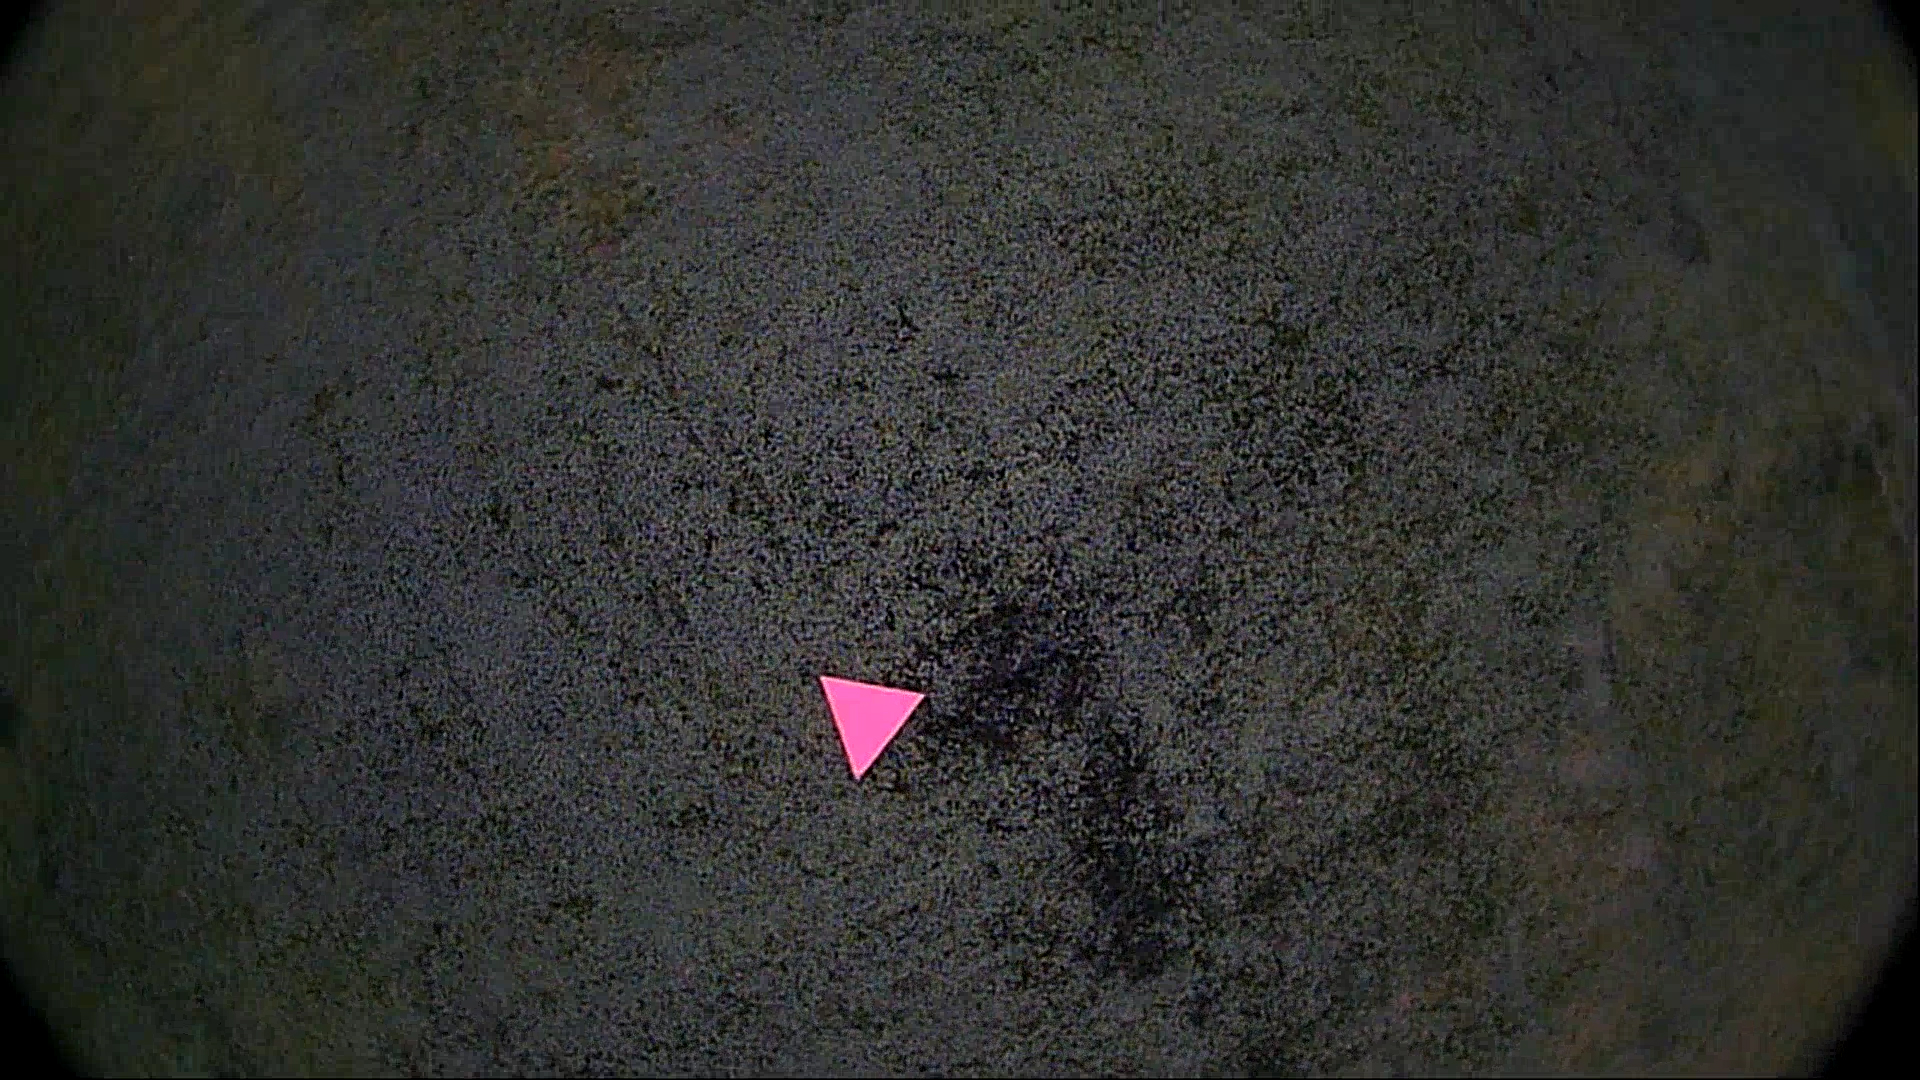triangle: (811, 670, 932, 781)
